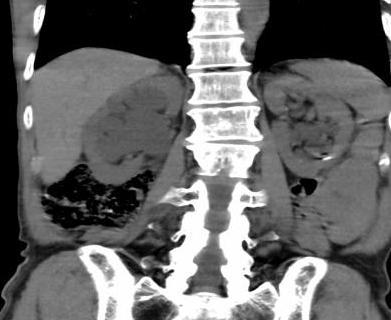Tas_Var: (322, 156, 332, 162)
